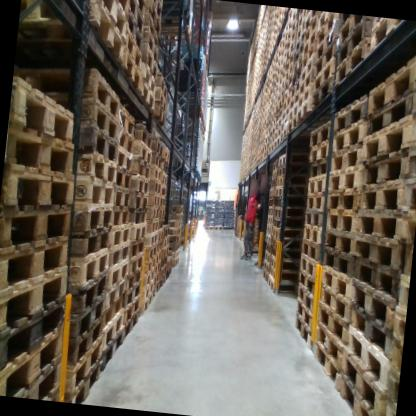pallet: (15, 0, 129, 70), (0, 292, 71, 390), (10, 66, 82, 152), (0, 258, 69, 343), (0, 325, 65, 401), (0, 233, 69, 301), (0, 198, 70, 264), (1, 154, 78, 212), (366, 41, 416, 127), (6, 129, 79, 186), (20, 0, 129, 37), (341, 322, 393, 393), (346, 273, 398, 337), (73, 60, 124, 124), (0, 351, 65, 401), (342, 305, 395, 363), (58, 332, 103, 399), (365, 89, 412, 152), (337, 358, 387, 416), (360, 115, 409, 171), (74, 96, 124, 150), (344, 253, 400, 300), (60, 311, 103, 370), (353, 172, 402, 223), (359, 146, 406, 199), (347, 230, 399, 277), (67, 265, 107, 325), (74, 120, 127, 164), (69, 168, 118, 214), (66, 243, 109, 294), (67, 201, 113, 246), (350, 206, 400, 246), (66, 293, 105, 342), (337, 20, 373, 72), (334, 35, 370, 85), (313, 299, 351, 346), (66, 358, 102, 404), (368, 20, 412, 57), (71, 152, 120, 185), (69, 224, 111, 262), (308, 348, 346, 389), (328, 120, 366, 161), (333, 92, 367, 135), (315, 283, 352, 322), (339, 384, 384, 416), (310, 324, 344, 366), (96, 308, 125, 350), (312, 24, 338, 70), (101, 218, 130, 257), (311, 39, 338, 80), (122, 26, 146, 72), (320, 265, 352, 298), (326, 167, 361, 197), (123, 7, 147, 50), (309, 77, 336, 115), (323, 185, 357, 215), (121, 45, 143, 90), (293, 280, 318, 319), (337, 15, 369, 45), (103, 236, 131, 270), (100, 292, 125, 330), (397, 172, 416, 221), (324, 208, 355, 238), (392, 234, 413, 278), (100, 329, 124, 367), (276, 158, 313, 182), (121, 0, 147, 34), (312, 57, 334, 97), (328, 146, 360, 173), (322, 249, 354, 275), (101, 278, 127, 310), (278, 147, 313, 170), (142, 0, 164, 36), (140, 29, 162, 65), (105, 256, 129, 289), (118, 308, 140, 344), (128, 139, 154, 169), (137, 58, 158, 95), (307, 117, 332, 148), (315, 14, 337, 49), (393, 269, 409, 316), (291, 319, 313, 353), (399, 140, 416, 183), (274, 181, 310, 201), (273, 192, 309, 212), (135, 80, 157, 112), (325, 231, 353, 256), (395, 209, 416, 242), (122, 278, 143, 311), (108, 201, 131, 231), (389, 303, 406, 343), (120, 294, 140, 328), (266, 265, 300, 285), (265, 276, 299, 296), (293, 301, 314, 333), (117, 106, 138, 138), (110, 164, 133, 193), (294, 268, 315, 299), (275, 172, 311, 190), (271, 214, 307, 232), (112, 146, 133, 176), (273, 202, 308, 220), (129, 154, 152, 181), (270, 255, 301, 275), (295, 252, 317, 280), (388, 330, 400, 381), (116, 126, 134, 160), (301, 239, 322, 268), (148, 95, 169, 124), (123, 263, 144, 292), (384, 366, 399, 406), (301, 219, 321, 249), (110, 189, 132, 216), (300, 29, 319, 60), (130, 124, 154, 148), (269, 245, 301, 263), (130, 172, 151, 199), (142, 46, 159, 79), (271, 234, 306, 250), (297, 83, 315, 112), (302, 191, 324, 214), (407, 97, 416, 153), (151, 84, 169, 112), (302, 174, 328, 193), (299, 68, 316, 97), (128, 193, 150, 215), (143, 18, 160, 46), (128, 221, 147, 246), (126, 207, 148, 228), (272, 226, 305, 240), (306, 158, 330, 177), (309, 140, 331, 160), (303, 204, 323, 226), (143, 235, 158, 264), (128, 237, 146, 261), (301, 45, 318, 70), (153, 71, 168, 99), (295, 102, 311, 128), (407, 78, 416, 123), (139, 265, 156, 288), (140, 277, 156, 301), (314, 11, 334, 30), (124, 0, 146, 17), (128, 250, 144, 273), (279, 91, 294, 115), (302, 56, 315, 83), (303, 26, 319, 47), (383, 391, 396, 416), (136, 296, 154, 314), (147, 165, 163, 184), (141, 255, 156, 275), (149, 135, 163, 156), (144, 212, 158, 233), (144, 0, 162, 16), (287, 96, 299, 120), (303, 10, 315, 34), (290, 53, 303, 75), (296, 24, 309, 46), (290, 76, 302, 99), (292, 41, 304, 64), (287, 18, 299, 41), (288, 87, 301, 108), (166, 200, 185, 214), (290, 67, 302, 89), (286, 27, 297, 50), (286, 113, 298, 134), (161, 143, 171, 167), (147, 192, 161, 209), (280, 115, 291, 136), (146, 205, 161, 220), (166, 217, 182, 231), (149, 152, 163, 167), (145, 229, 159, 244), (165, 233, 181, 246), (285, 51, 295, 71), (115, 0, 129, 14), (280, 106, 290, 125), (278, 57, 287, 78), (295, 25, 306, 42), (272, 118, 283, 135), (279, 32, 290, 49), (159, 167, 169, 185), (287, 10, 297, 28), (279, 42, 289, 60), (286, 41, 295, 60), (297, 9, 306, 28), (158, 264, 168, 281), (283, 84, 293, 101), (284, 74, 294, 91), (168, 244, 181, 257), (166, 228, 181, 239), (153, 248, 163, 264), (295, 31, 305, 47), (156, 228, 166, 243), (169, 212, 184, 222), (285, 64, 295, 79), (273, 128, 283, 143), (150, 180, 161, 193), (269, 158, 279, 172), (274, 101, 282, 118), (158, 208, 167, 223), (163, 267, 172, 282), (281, 20, 290, 35), (263, 234, 273, 247), (280, 128, 288, 144), (260, 271, 270, 283), (272, 137, 280, 152), (278, 79, 286, 94), (267, 141, 274, 158), (160, 243, 169, 256), (167, 243, 180, 252), (262, 251, 271, 264), (276, 89, 285, 102), (278, 72, 287, 85), (160, 161, 168, 175), (173, 256, 180, 272), (271, 67, 279, 81), (156, 275, 165, 287), (261, 260, 270, 272), (266, 217, 275, 228), (267, 206, 276, 217), (268, 196, 277, 207), (153, 269, 160, 283), (160, 183, 167, 197), (160, 257, 168, 269), (162, 236, 170, 248), (202, 223, 214, 231), (275, 110, 282, 123), (270, 170, 279, 180), (157, 221, 165, 232), (154, 280, 160, 294), (267, 135, 274, 147), (272, 76, 279, 88), (275, 50, 281, 64), (160, 198, 168, 208), (213, 224, 223, 232), (264, 227, 274, 235), (267, 189, 275, 199), (274, 42, 280, 55), (271, 103, 278, 114), (155, 261, 161, 273), (156, 238, 162, 250), (164, 259, 172, 268), (268, 128, 274, 140), (274, 82, 280, 94), (269, 180, 276, 190), (269, 119, 275, 129), (223, 225, 233, 231), (270, 112, 275, 123), (273, 93, 278, 104), (162, 225, 167, 235), (276, 57, 280, 69), (264, 246, 269, 254), (233, 231, 242, 235)
